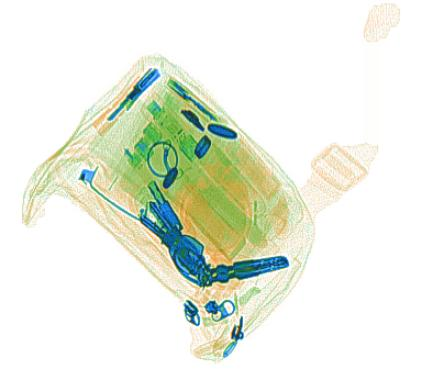USBFlashDisk: (126, 118, 193, 190), (164, 123, 200, 162), (144, 101, 181, 133)
